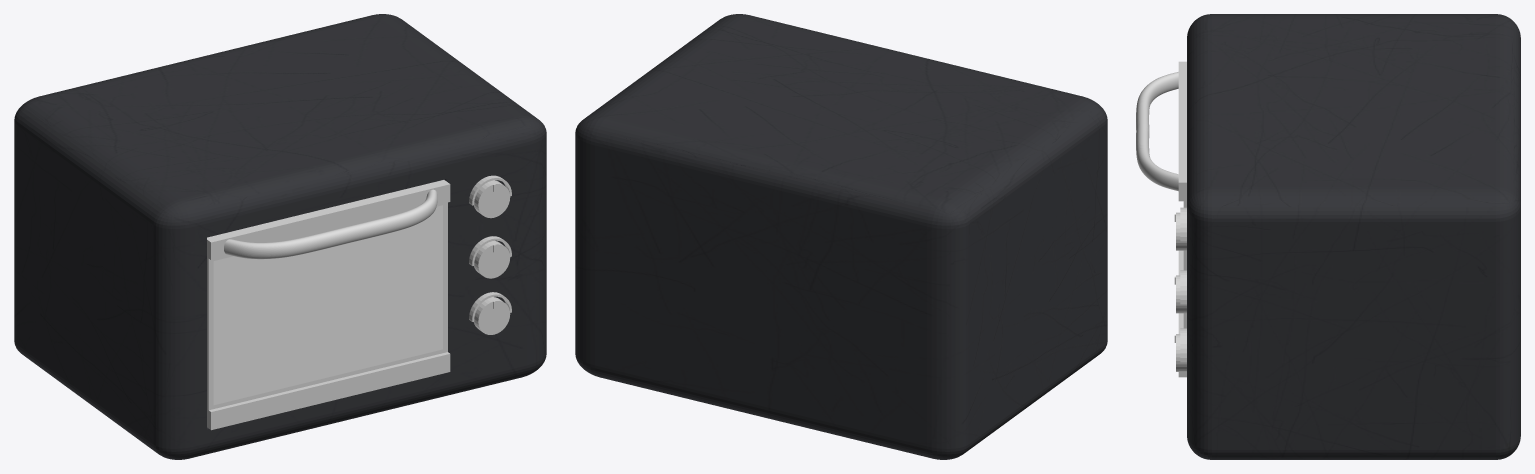
Rendered from lo vi song.fbx.
The picture shows the model from 3 angles, left to right: view 1: azimuth 30°, elevation 25°; view 2: azimuth 150°, elevation 25°; view 3: azimuth 270°, elevation 25°; orthographic projection. The views are drawn at different scales.
Parts seen in each view (by area): view 1: Cube, Cube.002, Cube.001, Plane, Cylinder.002, Cylinder, Cylinder.001; view 2: Cube; view 3: Cube, Plane, Cube.001.
Boxes of the visible parts, bbox=[...] form: Cube: bbox=[14, 14, 546, 459]; Cube.002: bbox=[213, 205, 442, 404]; Cube.001: bbox=[207, 180, 450, 430]; Plane: bbox=[224, 189, 437, 259]; Cylinder.002: bbox=[473, 297, 510, 334]; Cylinder: bbox=[474, 180, 510, 218]; Cylinder.001: bbox=[474, 241, 510, 278]; Cube: bbox=[575, 14, 1107, 459]; Cube: bbox=[1187, 14, 1520, 459]; Plane: bbox=[1136, 72, 1178, 191]; Cube.001: bbox=[1178, 61, 1186, 377].
Bounding box in the file's own units: 49 × 31 × 40.33.
3 materials, 1 textured.
